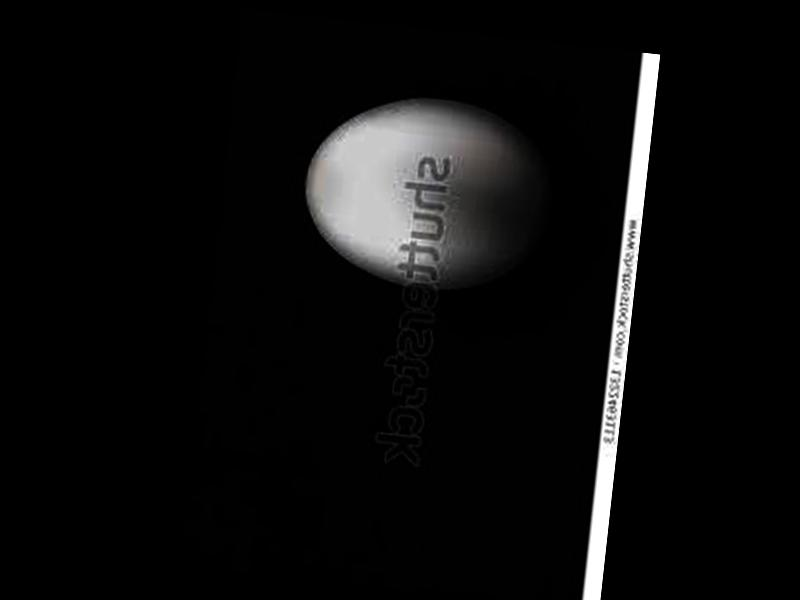Eggs: (293, 83, 561, 296)
